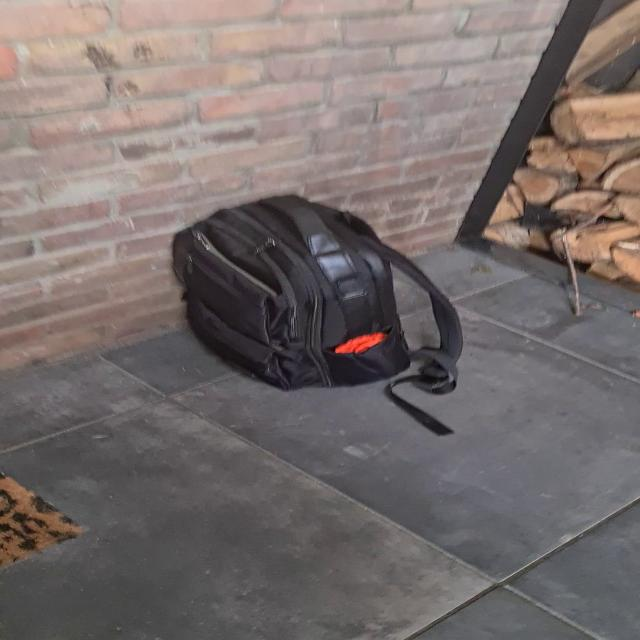backpack: (158, 188, 465, 396)
